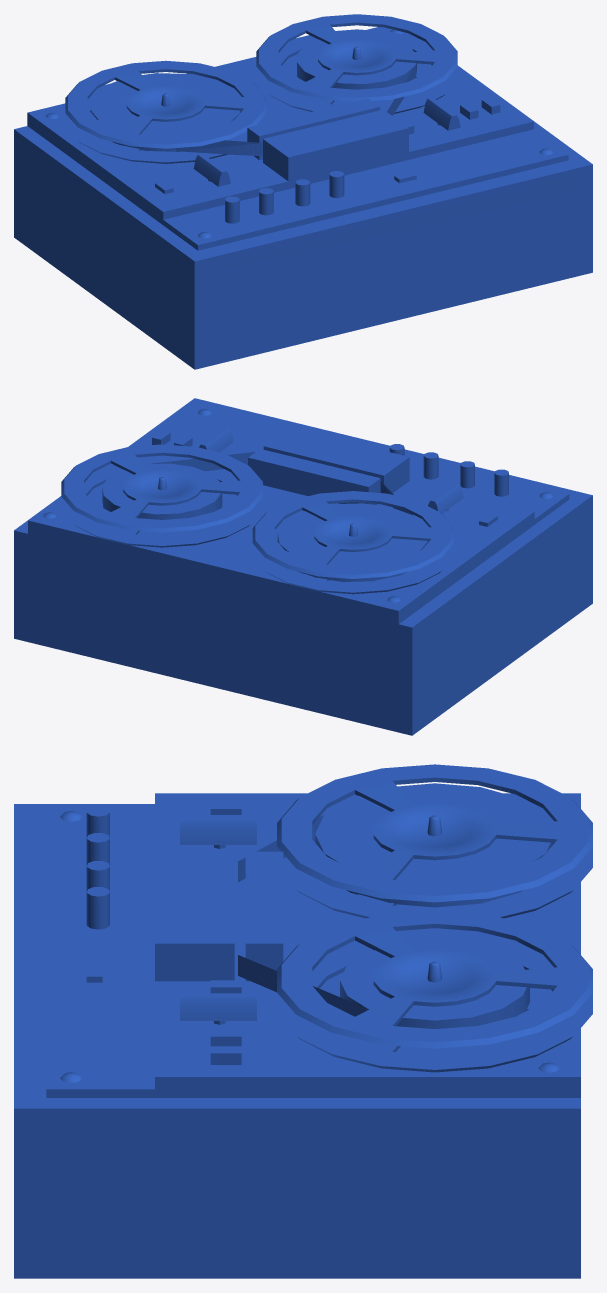
File: RetroElectronic_TapeRecorder.fbx
The picture shows the model from 3 angles, top to bottom: view 1: azimuth 30°, elevation 25°; view 2: azimuth 150°, elevation 25°; view 3: azimuth 270°, elevation 25°; orthographic projection. The views are drawn at different scales.
Visible parts, largest first — view 1: tape_recorder; view 2: tape_recorder; view 3: tape_recorder.
Part boxes in pixels (x1,y1,x2,y2): tape_recorder: [14, 14, 592, 369]; tape_recorder: [14, 398, 592, 735]; tape_recorder: [14, 764, 592, 1278].
Bounding box in the file's own units: 46.63 × 37.45 × 16.96.
